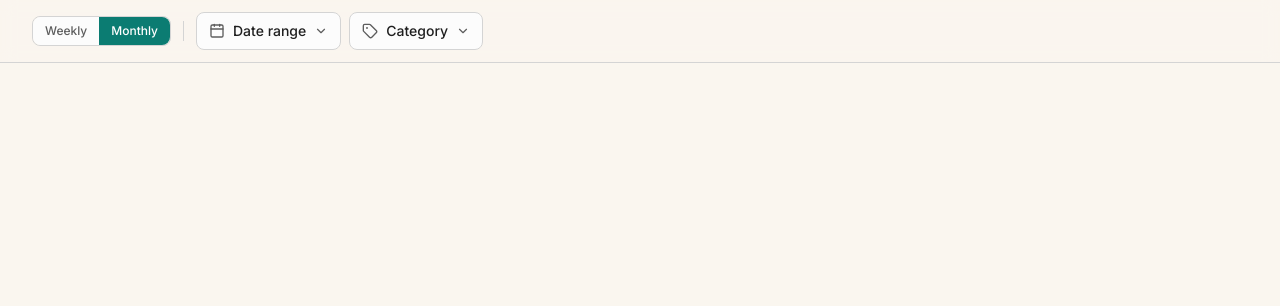
Test case: FilterBar › date range dropdown › closes dropdown on Escape key
Click the button with aria-label "filter by date range".
click(269, 31)  # box [196,12,341,50]
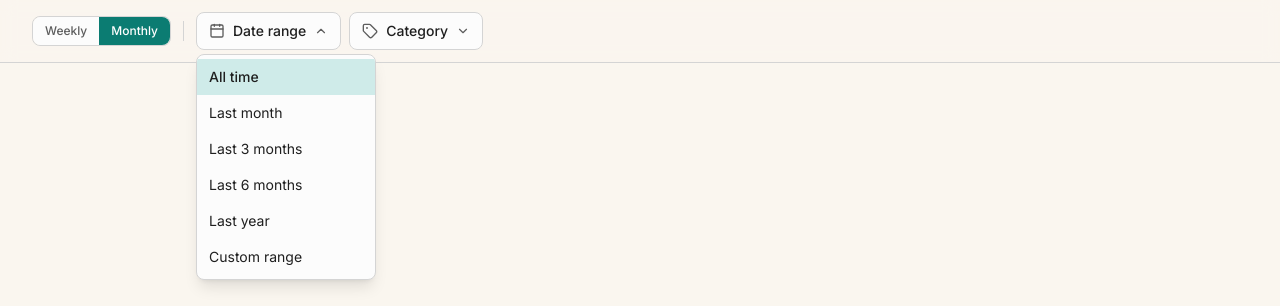
Expected: the list is shown, [196,54,376,280]
Press Escape in the button with aria-label "filter by date range", box [196,12,341,50]
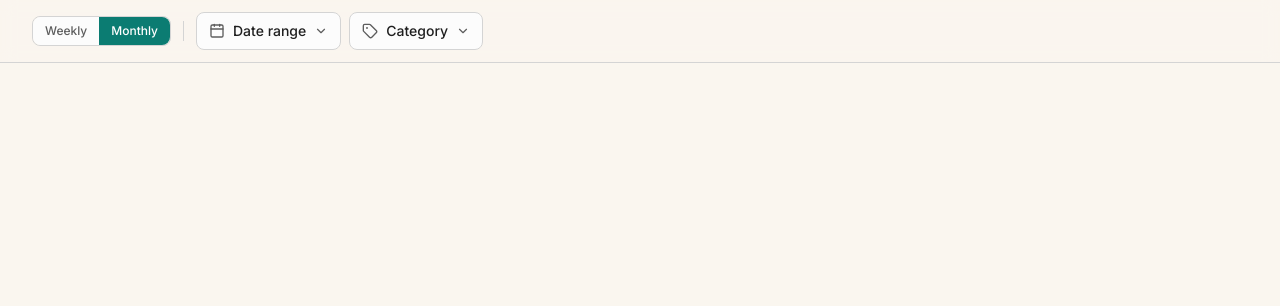
Expected: the list is gone
